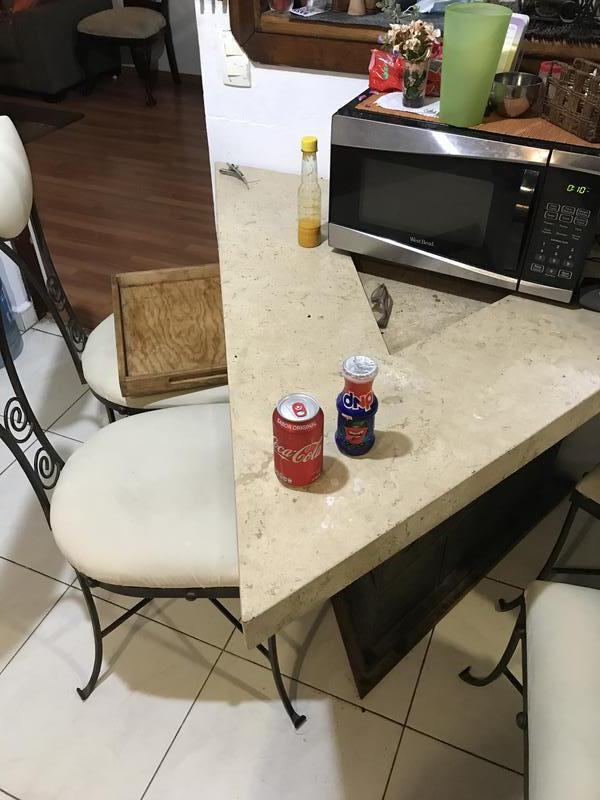coca_cola: (272, 394, 325, 493)
danup: (336, 355, 377, 459)
